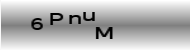6: (29, 17, 43, 30)
M: (94, 26, 114, 41)
P: (48, 12, 64, 26)
n: (68, 14, 82, 25)
u: (82, 11, 96, 22)
